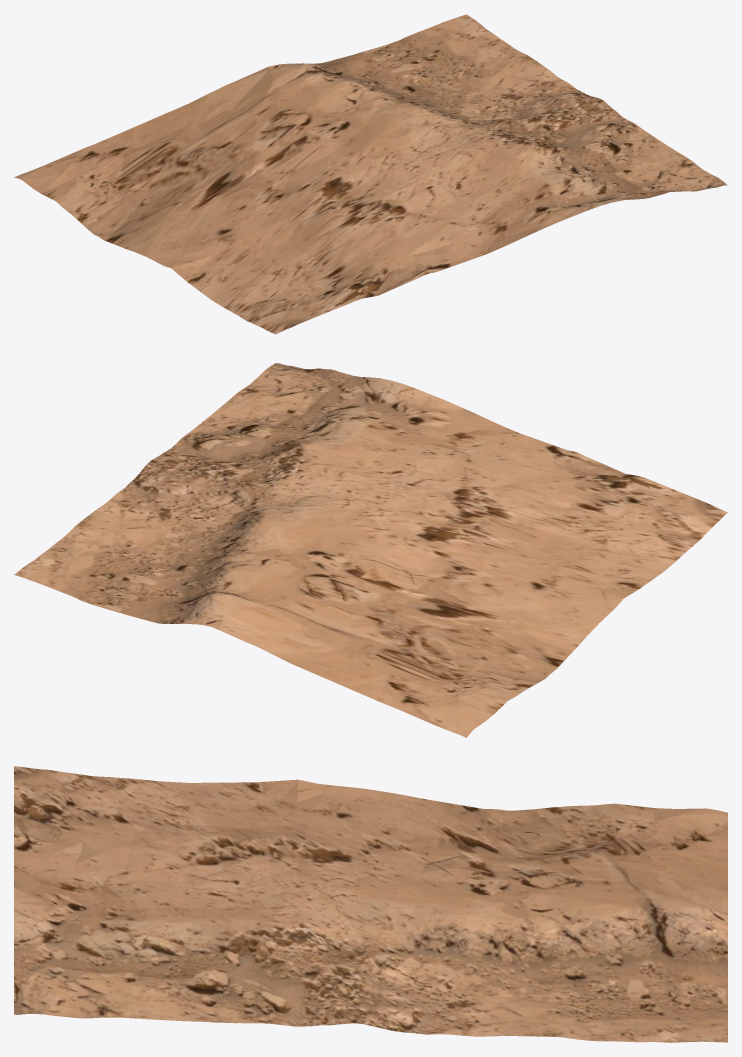
The picture shows the model from 3 angles, top to bottom: view 1: azimuth 30°, elevation 25°; view 2: azimuth 150°, elevation 25°; view 3: azimuth 270°, elevation 25°; orthographic projection. The views are drawn at different scales.
Size of the model in its own units: 2.09 by 0.3704 by 2.09.
Materials: 2 (2 with a texture image).
